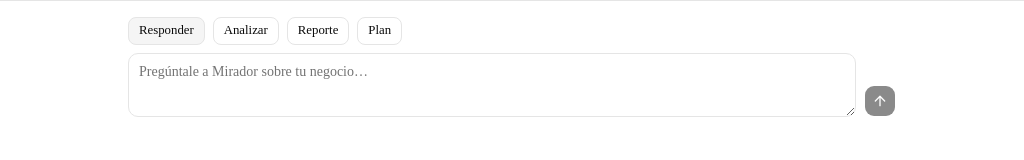
it: Composer › updates the store input and enables the send button when typing
expect the button named "Enviar" is disabled: met, box [864,85,896,117]
Type "Hola Mirador" into the text box named "Escribe tu mensaje".
click(492, 85); type("Hola Mirador")  # box [128,53,856,117]
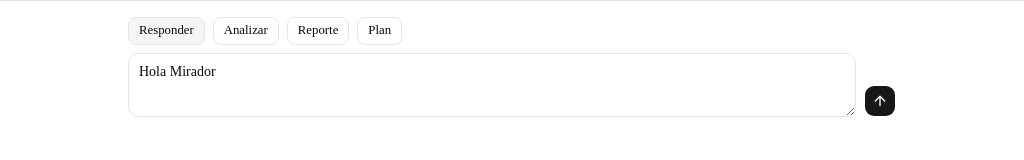
expect the button named "Enviar" is enabled: met, box [864,85,896,117]
